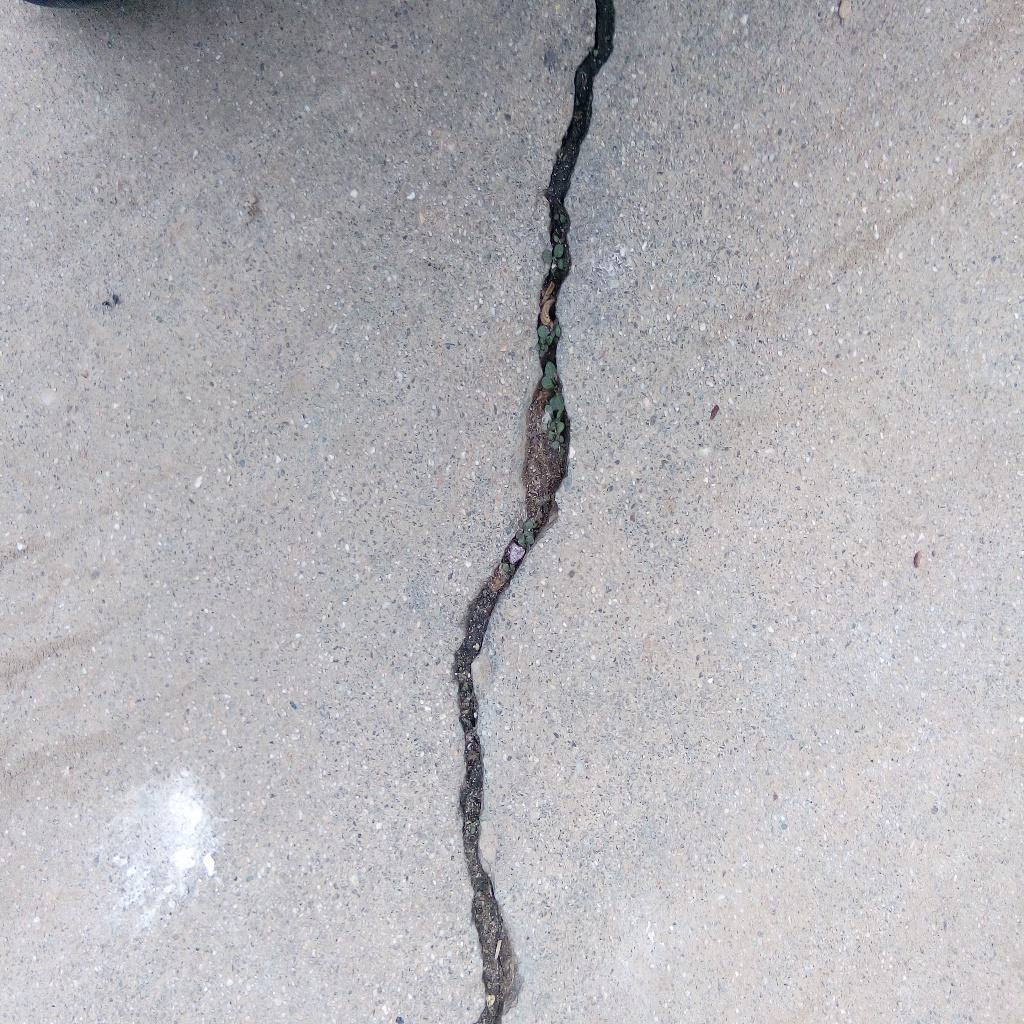Crack: (450, 1, 616, 1024)
